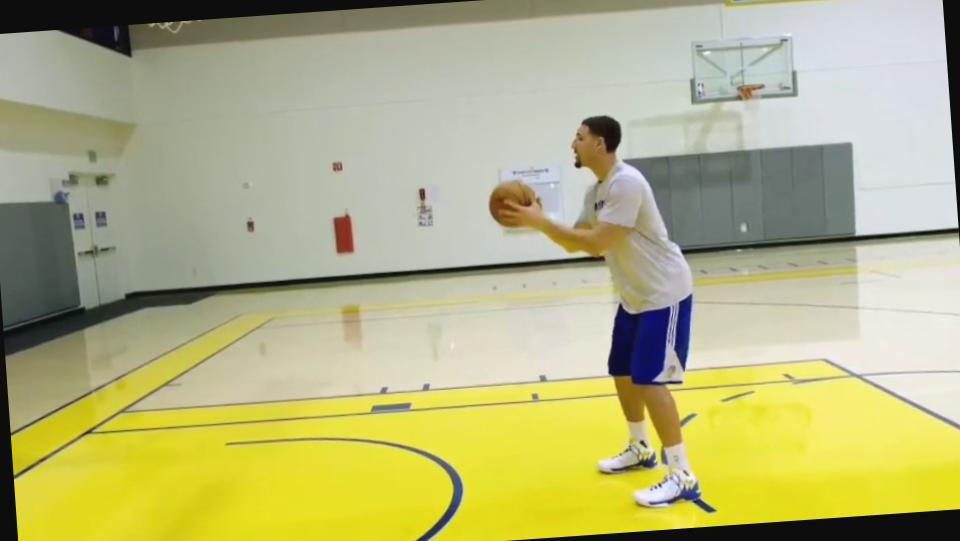hoop: (733, 81, 768, 95)
